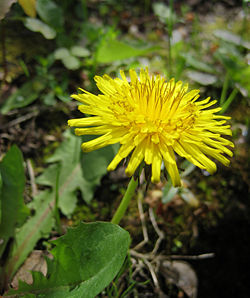dandelion: (65, 66, 240, 196)
